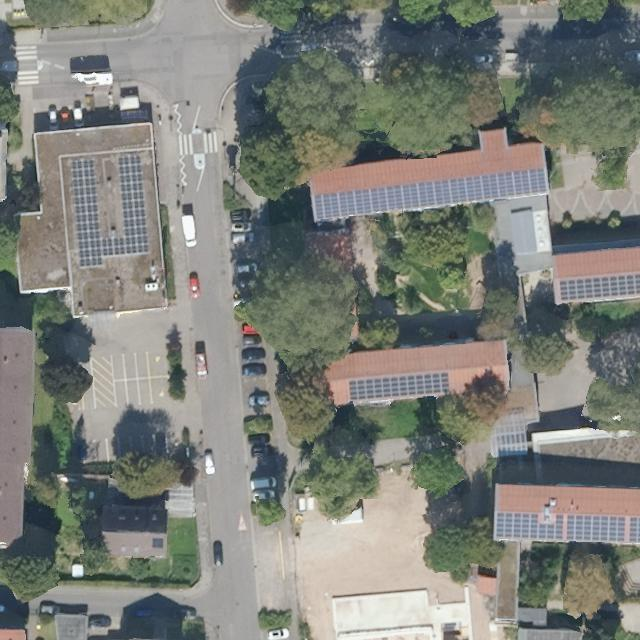PV: (307, 164, 553, 226), (65, 150, 152, 273), (488, 508, 637, 548), (345, 368, 455, 406), (555, 269, 638, 308)
